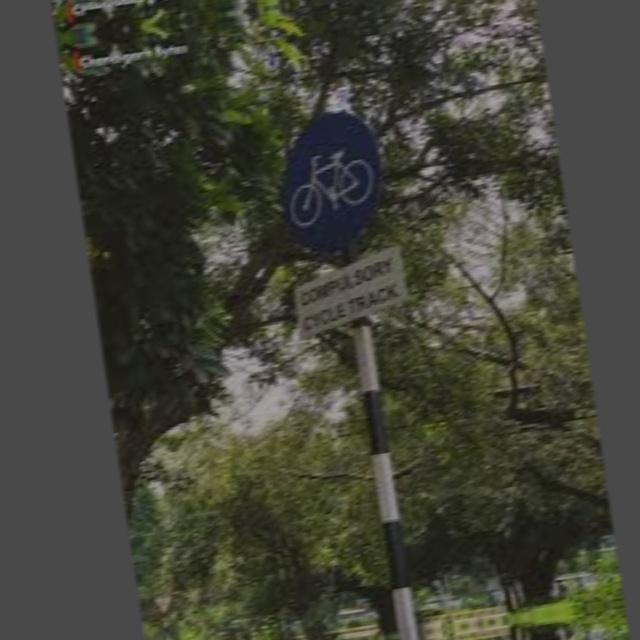Compulsory_Cycle_Track: (264, 104, 405, 257)
